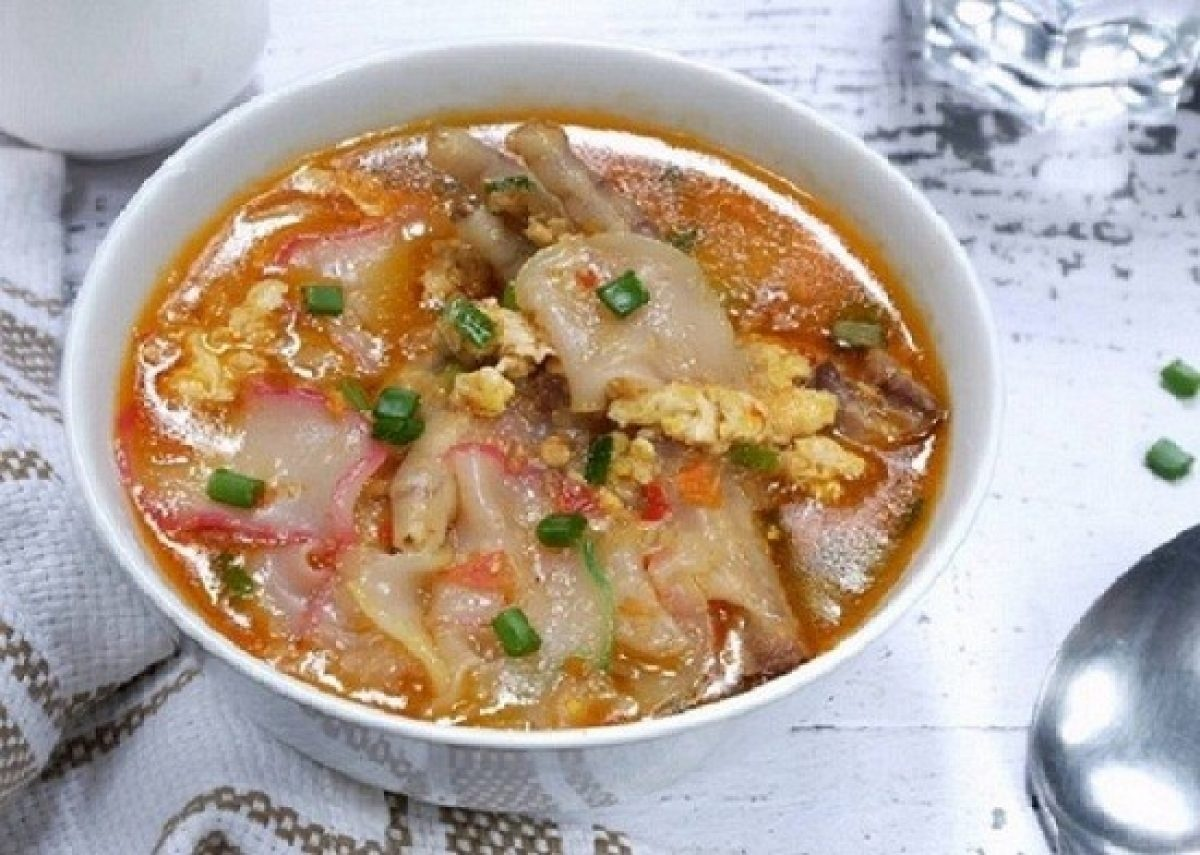seblak: (120, 110, 925, 726)
